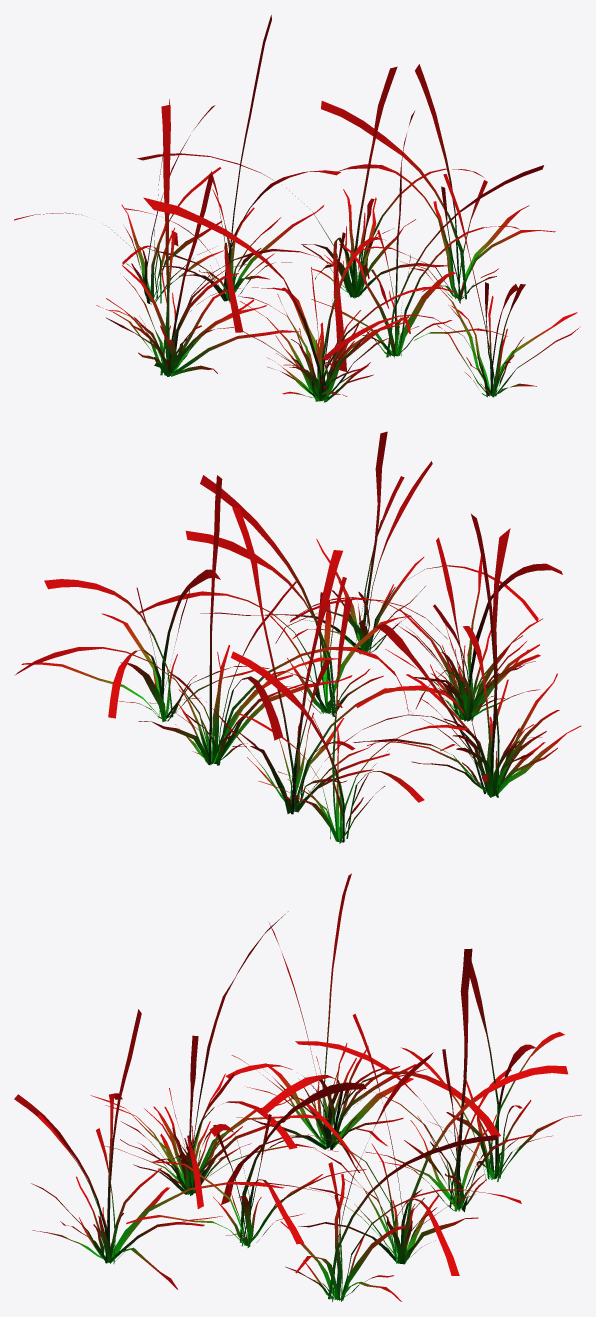
Rendered from rbEla_Var3_LOD0.fbx.
3 renders of one model, top to bottom at view 1: azimuth 30°, elevation 25°; view 2: azimuth 150°, elevation 25°; view 3: azimuth 270°, elevation 25°, orthographic. The views are drawn at different scales.
Parts seen in each view (by area): view 1: _f59b_Var3_LOD0; view 2: _f59b_Var3_LOD0; view 3: _f59b_Var3_LOD0.
Boxes of the visible parts, x1=… form: _f59b_Var3_LOD0: x1=14, y1=15, x2=580, y2=402; _f59b_Var3_LOD0: x1=14, y1=431, x2=581, y2=843; _f59b_Var3_LOD0: x1=14, y1=873, x2=581, y2=1301.
Bounding box in the file's own units: 98.65 × 56.81 × 101.
